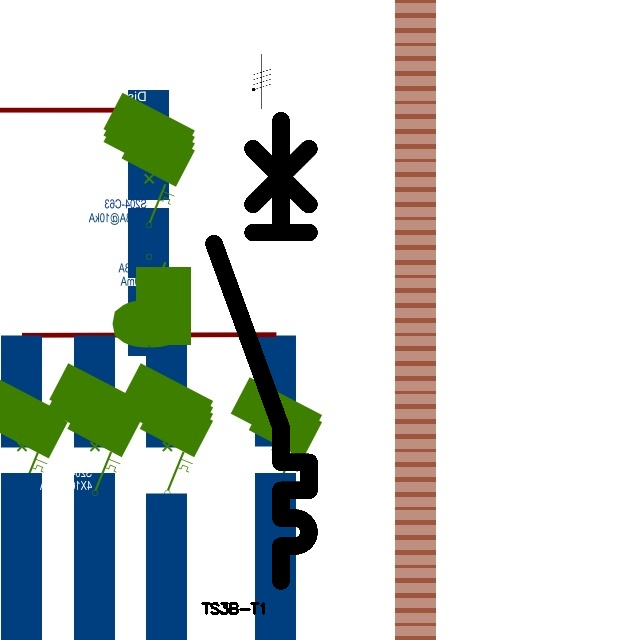interruptor_termomagnetico: (202, 108, 321, 593)
